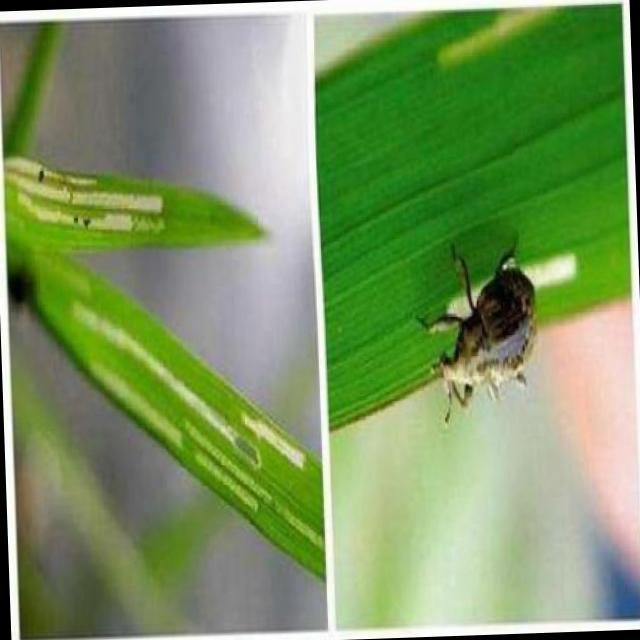rice-bug: (426, 250, 547, 403)
